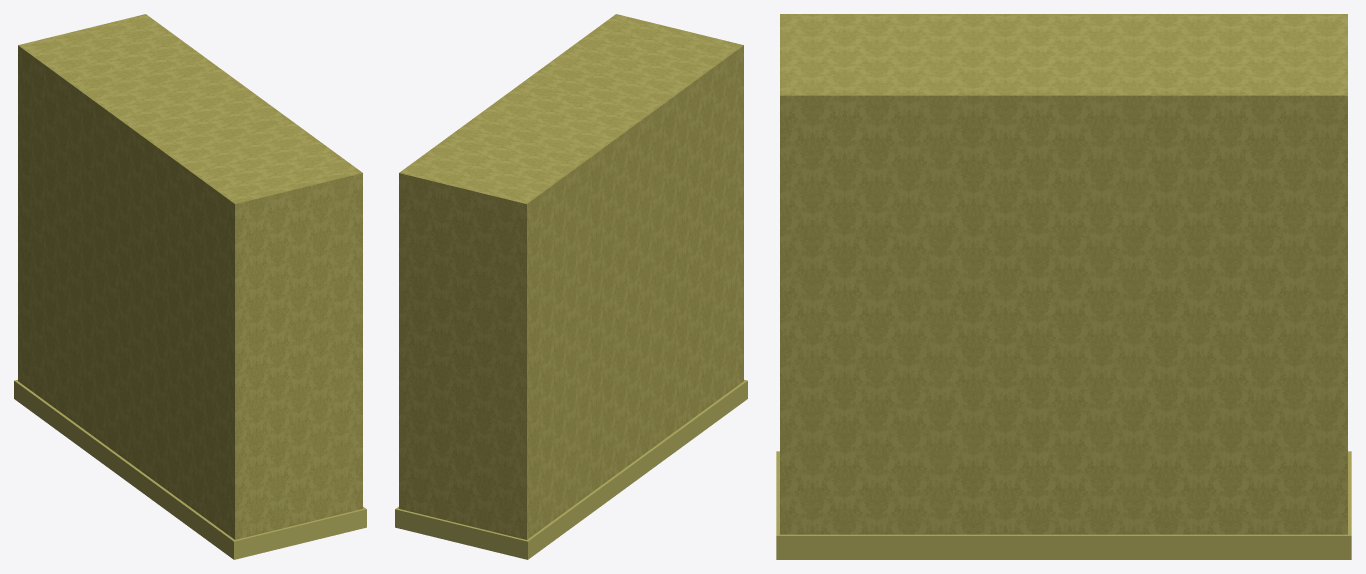
File: wall.glb
The picture shows the model from 3 angles, left to right: view 1: azimuth 30°, elevation 25°; view 2: azimuth 150°, elevation 25°; view 3: azimuth 270°, elevation 25°; orthographic projection. The views are drawn at different scales.
Parts seen in each view (by area): view 1: Cube_0; view 2: Cube_0; view 3: Cube_0.
Part boxes in pixels (bbox=[...]): Cube_0: bbox=[14, 14, 366, 559]; Cube_0: bbox=[395, 14, 747, 559]; Cube_0: bbox=[776, 14, 1351, 559].
Size of the model in its own units: 2.08 by 5.29 by 5.96.
Materials: 2 (1 with a texture image).
